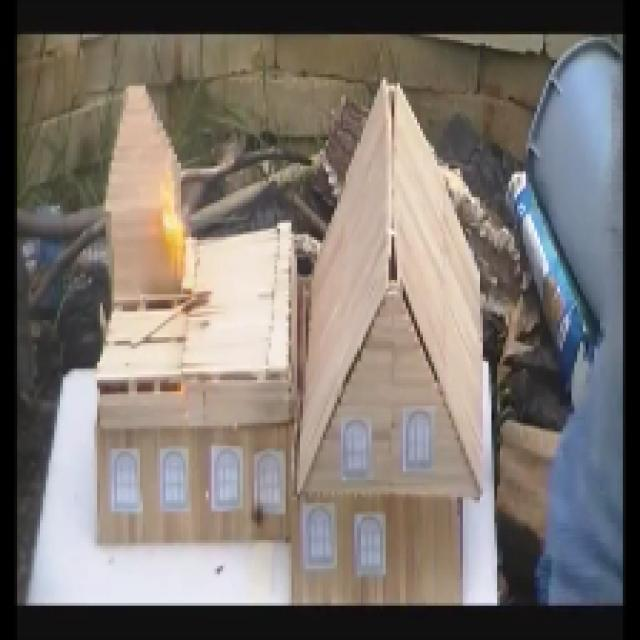Fire: (150, 174, 188, 270)
